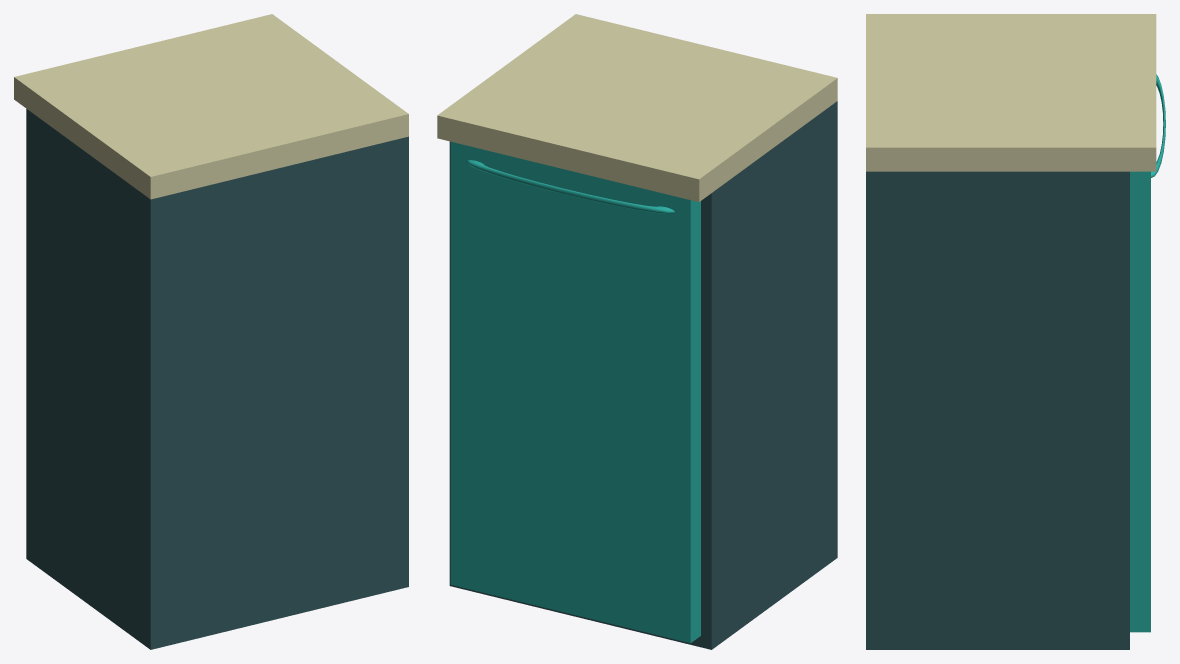
The model's file is Dishwasher.fbx.
The picture shows the model from 3 angles, left to right: view 1: azimuth 30°, elevation 25°; view 2: azimuth 150°, elevation 25°; view 3: azimuth 270°, elevation 25°; orthographic projection. The views are drawn at different scales.
Visible parts, largest first — view 1: Washer; view 2: Door, Washer; view 3: Washer, Door.
Part boxes in pixels (x1,y1,x2,y2): Washer: (14, 14, 408, 649); Door: (450, 142, 700, 643); Washer: (437, 14, 837, 649); Washer: (866, 14, 1156, 649); Door: (1130, 74, 1165, 632).
Bounding box in the file's own units: 60 × 105 × 56.84.
2 materials, 2 textured.
